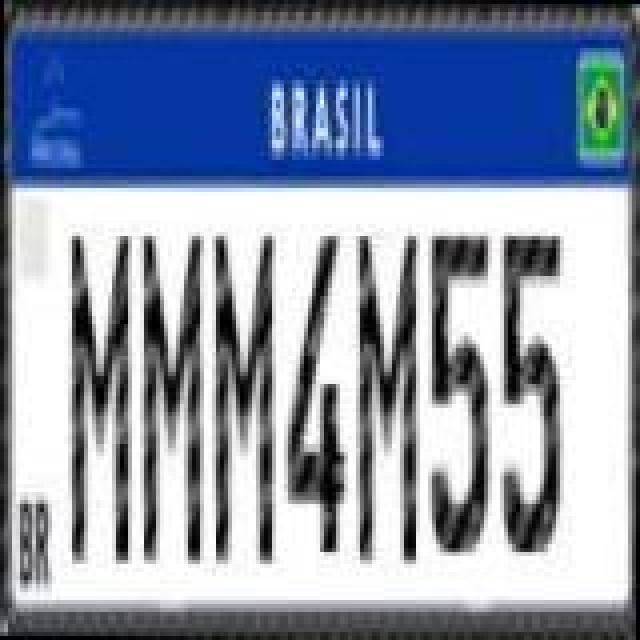4: (278, 226, 350, 558)
5: (422, 230, 494, 558), (496, 232, 564, 560)
M: (66, 230, 138, 570), (206, 230, 278, 566), (140, 234, 208, 570), (356, 232, 424, 564)
